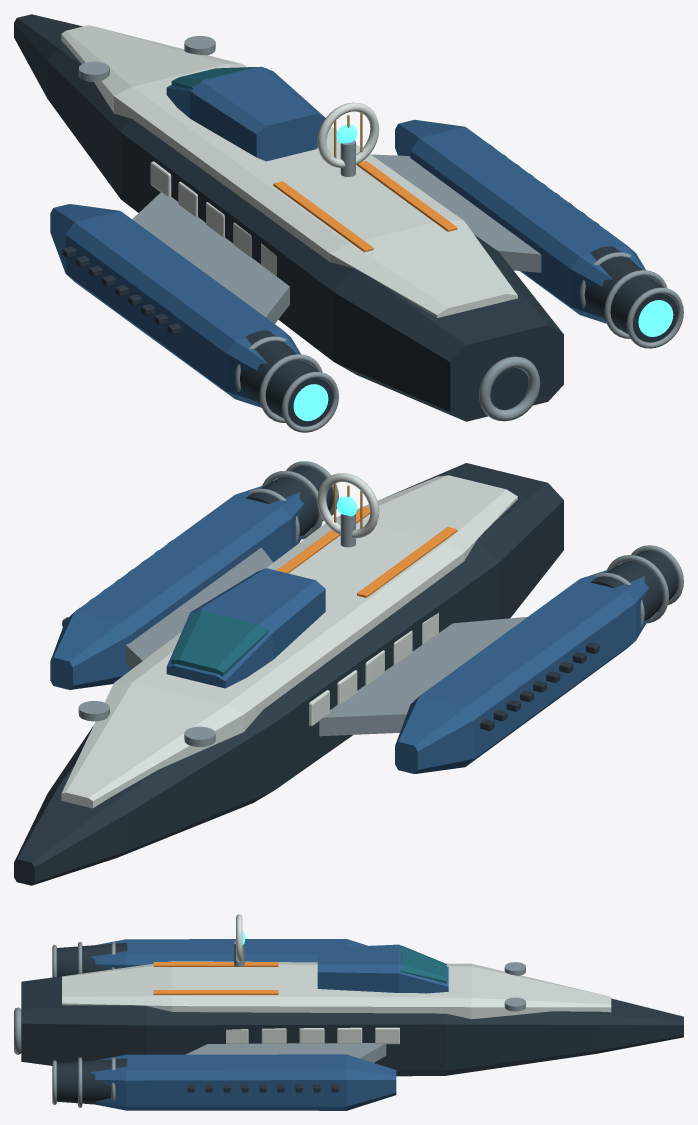
File: hontz_corvette.glb
3 renders of one model, top to bottom at view 1: azimuth 30°, elevation 25°; view 2: azimuth 150°, elevation 25°; view 3: azimuth 270°, elevation 25°, orthographic. The views are drawn at different scales.
Visible parts, largest first — view 1: hontz_corvette_mesh, Nacelle_left_mesh, Nacelle_right_mesh, Survey_dish_mesh; view 2: hontz_corvette_mesh, Nacelle_left_mesh, Nacelle_right_mesh, Survey_dish_mesh; view 3: hontz_corvette_mesh, Nacelle_right_mesh, Nacelle_left_mesh, Survey_dish_mesh.
Boxes of the visible parts, x1,y1,x2,y2 form: hontz_corvette_mesh: (14,14,683,432); Nacelle_left_mesh: (50,204,301,407); Nacelle_right_mesh: (395,119,645,323); Survey_dish_mesh: (317,102,379,176); hontz_corvette_mesh: (14,461,683,885); Nacelle_left_mesh: (395,568,648,773); Nacelle_right_mesh: (50,484,303,689); Survey_dish_mesh: (317,473,379,547); hontz_corvette_mesh: (14,942,683,1107); Nacelle_right_mesh: (91,1054,396,1110); Nacelle_left_mesh: (91,939,368,969); Survey_dish_mesh: (234,914,245,966).
Size of the model in its own units: 11.67 by 5.4 by 23.05.
